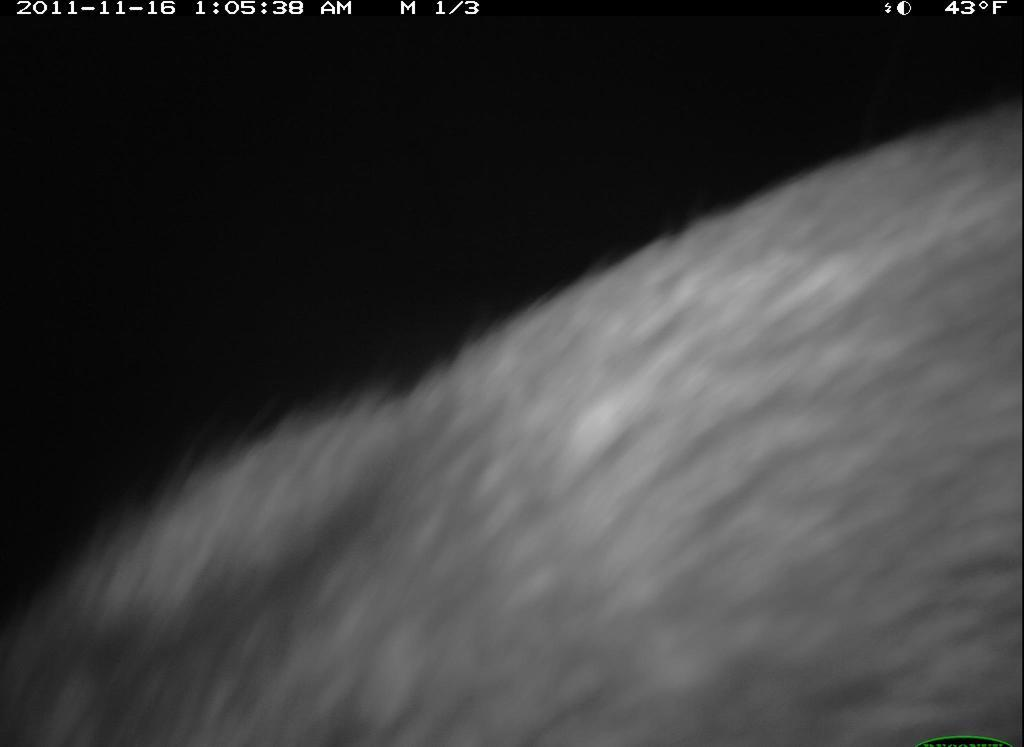raccoon: (1, 109, 1019, 747)
